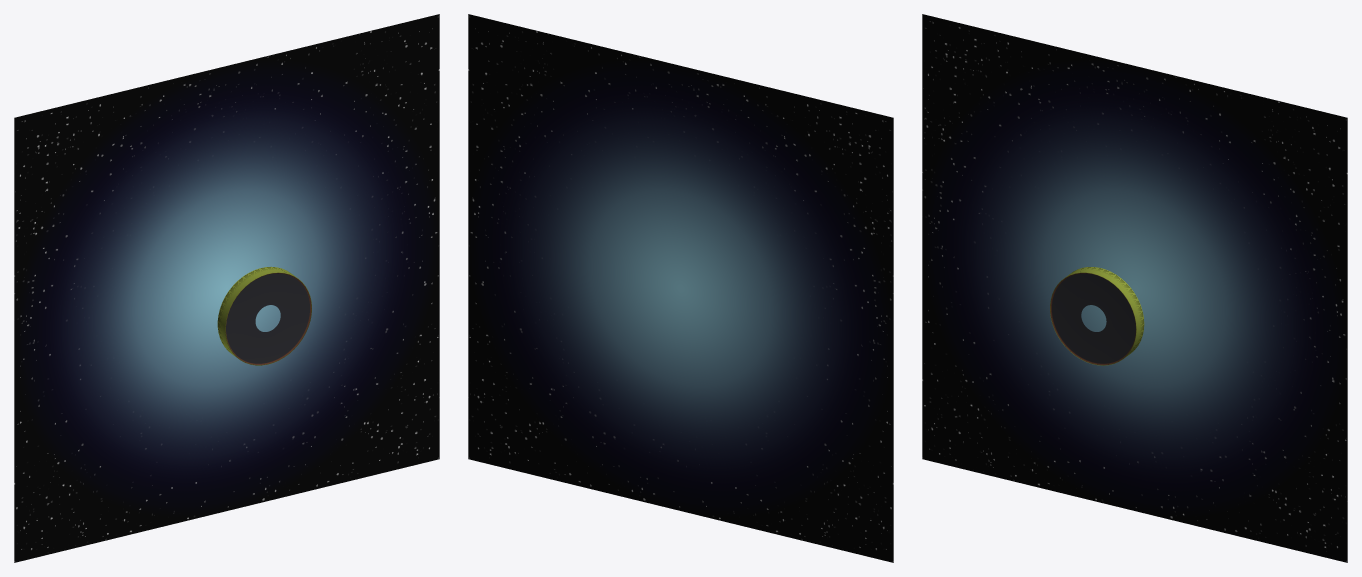
File: world_Master.fbx
3 views of the same model, side by side, from view 1: azimuth 30°, elevation 25°; view 2: azimuth 150°, elevation 25°; view 3: azimuth 330°, elevation 25° (orthographic).
Visible parts, largest first — view 1: skyPlane, world2; view 2: skyPlane; view 3: skyPlane, world2.
Part boxes in pixels (bbox=[...]): skyPlane: bbox=[14, 14, 439, 562]; world2: bbox=[217, 266, 311, 365]; skyPlane: bbox=[468, 14, 893, 562]; skyPlane: bbox=[922, 14, 1347, 562]; world2: bbox=[1050, 267, 1144, 365].
Bounding box in the file's own units: 78408 × 78408 × 13310.
